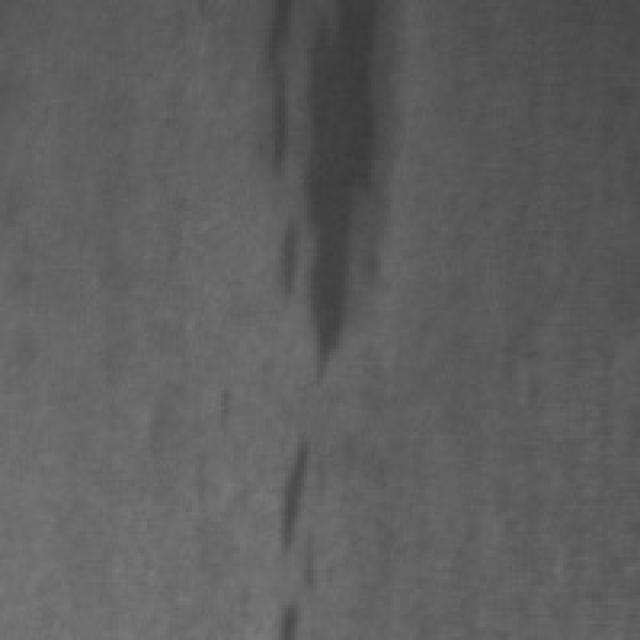inclusion: (260, 0, 390, 381), (256, 426, 330, 630)
